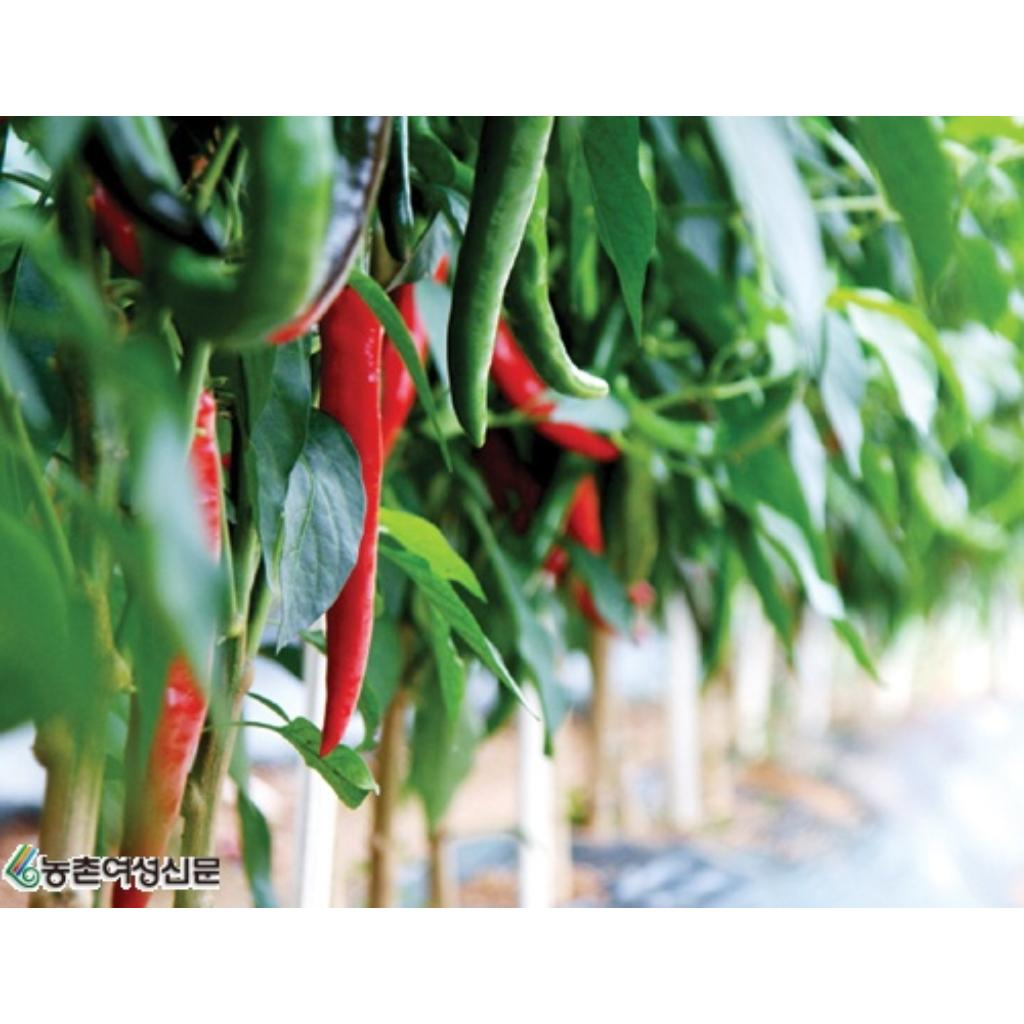chili: (320, 286, 384, 755)
